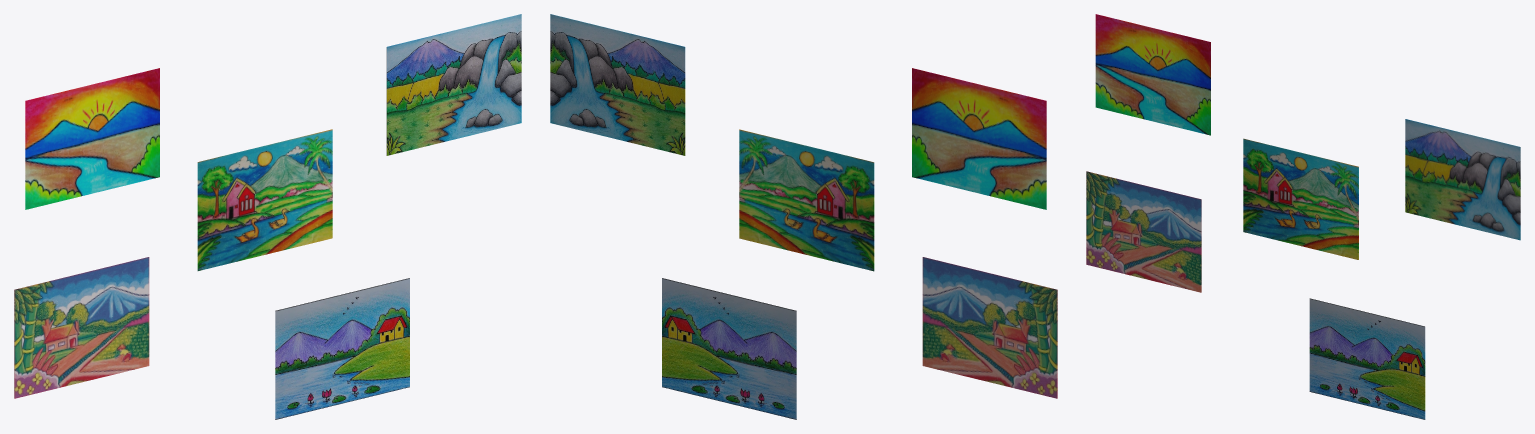
Rendered from gambar lingkungan.fbx.
The picture shows the model from 3 angles, left to right: view 1: azimuth 30°, elevation 25°; view 2: azimuth 150°, elevation 25°; view 3: azimuth 330°, elevation 25°; orthographic projection. The views are drawn at different scales.
Visible parts, largest first — view 1: Plane.032, Plane.014, Plane.034, Plane.035, Plane.033; view 2: Plane.032, Plane.034, Plane.014, Plane.035, Plane.033; view 3: Plane.033, Plane.014, Plane.034, Plane.032, Plane.035.
Boxes of the visible parts, x1,y1,x2,y2 form: Plane.032: (14,257,149,398); Plane.014: (197,129,332,270); Plane.034: (386,14,521,155); Plane.035: (25,68,159,209); Plane.033: (275,278,409,419); Plane.032: (922,257,1057,398); Plane.034: (550,14,685,155); Plane.014: (739,129,874,271); Plane.035: (912,68,1046,209); Plane.033: (662,278,796,419); Plane.033: (1309,298,1425,419); Plane.014: (1243,138,1358,259); Plane.034: (1405,119,1520,240); Plane.032: (1086,171,1201,292); Plane.035: (1095,14,1210,135).
Bounding box in the file's own units: 211 × 151 × 0.1806.
